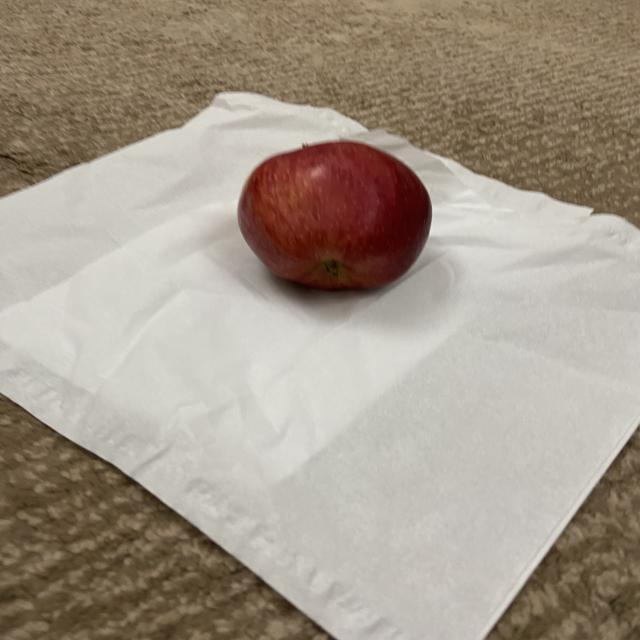apple: (232, 136, 436, 297)
